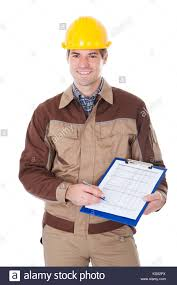Person_wearing_helmet: (55, 11, 122, 56)
